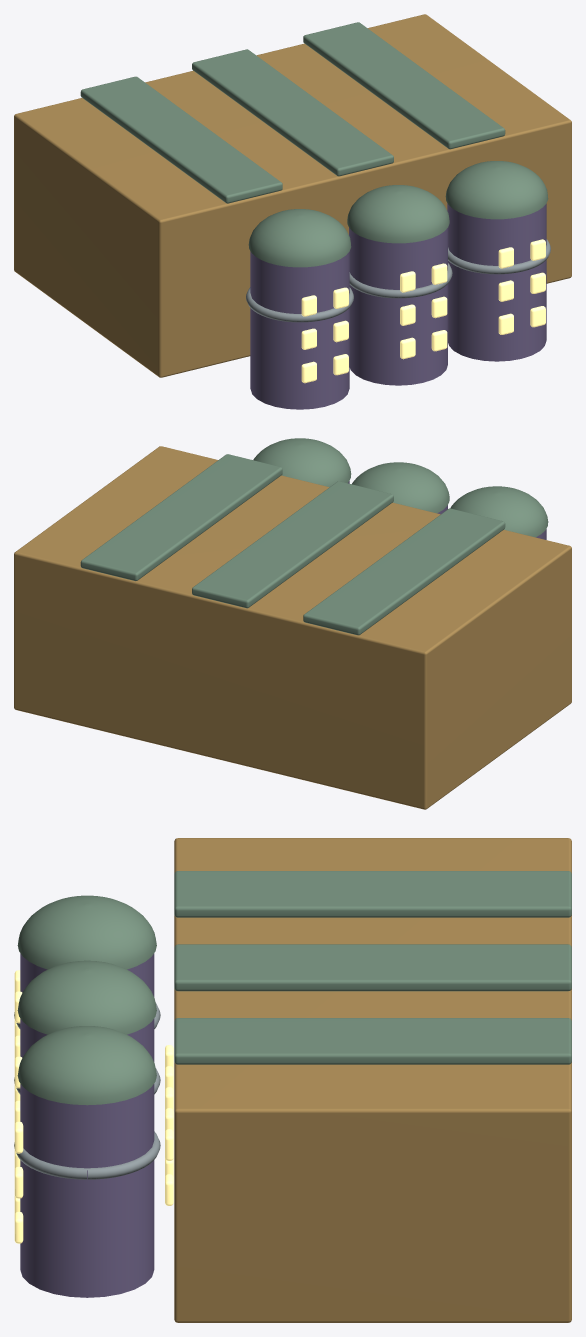
3 renders of one model, top to bottom at view 1: azimuth 30°, elevation 25°; view 2: azimuth 150°, elevation 25°; view 3: azimuth 270°, elevation 25°, orthographic. The views are drawn at different scales.
Parts seen in each view (by area): view 1: Low factory main hall, Cylindrical tower, Cylindrical tower.002, Cylindrical tower.001, Factory roof service strip, Factory roof service strip.002, Factory roof service strip.001, Factory auxiliary tank cap.001, Factory auxiliary tank cap, Factory auxiliary tank cap.002, Tower seam, Tower seam.001 (+1 smaller); view 2: Low factory main hall, Factory roof service strip, Factory roof service strip.002, Factory roof service strip.001, Factory auxiliary tank cap.002, Factory auxiliary tank cap.001, Factory auxiliary tank cap; view 3: Low factory main hall, Cylindrical tower.002, Factory roof service strip.001, Factory roof service strip, Factory roof service strip.002, Factory auxiliary tank cap.002, Factory auxiliary tank cap, Factory auxiliary tank cap.001, Tower seam.002, Cylindrical tower, Cylindrical tower.001.
Part boxes in pixels (box(x1,y1,x2,y2)): Low factory main hall: box(14, 14, 571, 377); Cylindrical tower: box(250, 251, 349, 409); Cylindrical tower.002: box(447, 203, 546, 361); Cylindrical tower.001: box(349, 227, 447, 385); Factory roof service strip: box(80, 76, 282, 203); Factory roof service strip.002: box(303, 22, 505, 149); Factory roof service strip.001: box(192, 49, 393, 176); Factory auxiliary tank cap.001: box(347, 185, 449, 243); Factory auxiliary tank cap: box(248, 209, 351, 267); Factory auxiliary tank cap.002: box(445, 161, 548, 219); Tower seam: box(246, 287, 353, 322); Tower seam.001: box(349, 263, 452, 298); Low factory main hall: box(14, 446, 571, 809); Factory roof service strip: box(303, 508, 505, 635); Factory roof service strip.002: box(80, 454, 282, 581); Factory roof service strip.001: box(192, 481, 393, 608); Factory auxiliary tank cap.002: box(253, 438, 351, 487); Factory auxiliary tank cap.001: box(352, 462, 449, 513); Factory auxiliary tank cap: box(450, 486, 548, 537); Low factory main hall: box(174, 838, 571, 1322); Cylindrical tower.002: box(20, 1084, 154, 1297); Factory roof service strip.001: box(174, 944, 571, 991); Factory roof service strip: box(174, 871, 571, 917); Factory roof service strip.002: box(174, 1018, 571, 1064); Factory auxiliary tank cap.002: box(17, 1026, 156, 1105); Factory auxiliary tank cap: box(17, 895, 156, 969); Factory auxiliary tank cap.001: box(17, 960, 156, 1034); Tower seam.002: box(14, 1131, 160, 1179); Cylindrical tower: box(20, 953, 154, 996); Cylindrical tower.001: box(20, 1018, 154, 1061).
Size of the model in its own units: 2.6 by 1.07 by 2.24.
